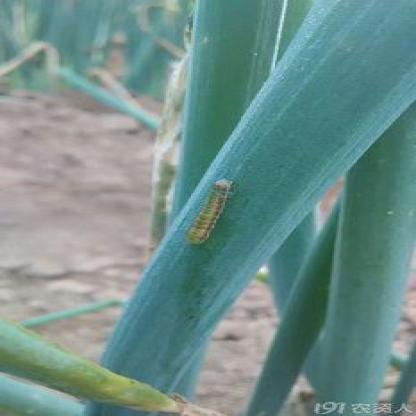armyworm: (181, 173, 238, 255)
